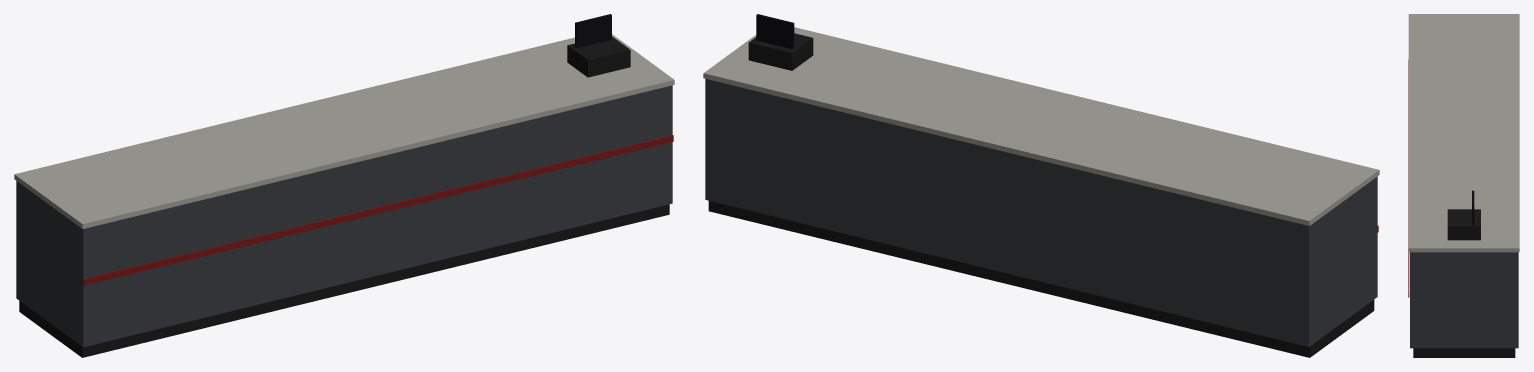
File: counter_500_110_100.glb
The picture shows the model from 3 angles, left to right: view 1: azimuth 30°, elevation 25°; view 2: azimuth 150°, elevation 25°; view 3: azimuth 270°, elevation 25°; orthographic projection. The views are drawn at different scales.
Parts seen in each view (by area): view 1: counter_500_110_100; view 2: counter_500_110_100; view 3: counter_500_110_100.
Part boxes in pixels (bbox=[...]): counter_500_110_100: bbox=[14, 14, 674, 357]; counter_500_110_100: bbox=[703, 14, 1379, 357]; counter_500_110_100: bbox=[1408, 14, 1519, 357].
Bounding box in the file's own units: 5 × 1.44 × 1.
